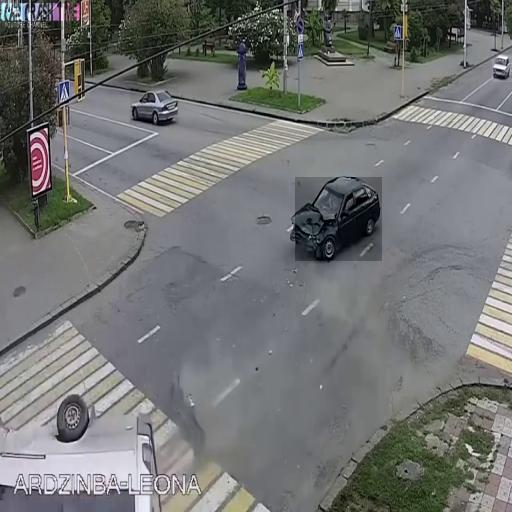小汽车: (295, 178, 382, 262), (130, 87, 179, 124), (492, 54, 512, 82)
